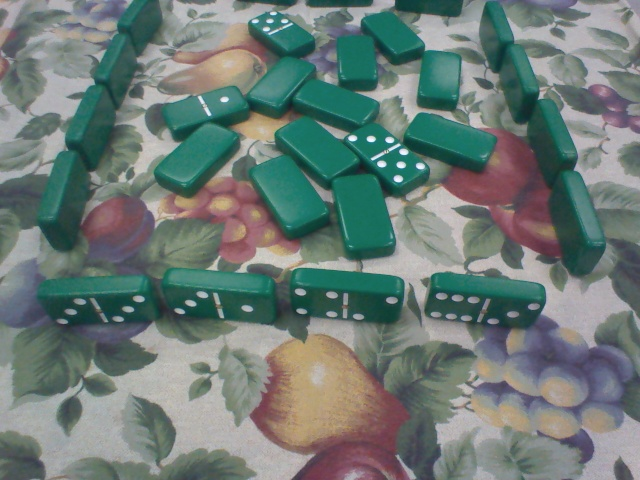A: (150, 118, 241, 197), (401, 108, 500, 176), (247, 152, 328, 235), (269, 111, 357, 185), (327, 171, 401, 256), (288, 69, 379, 131), (242, 46, 319, 119), (412, 44, 466, 117), (359, 6, 427, 62), (327, 32, 384, 88)
B: (338, 119, 429, 192), (152, 91, 261, 131), (238, 6, 318, 59)
C: (31, 148, 97, 254), (66, 83, 120, 171), (84, 31, 143, 105), (112, 1, 166, 47)
D: (536, 167, 613, 274), (521, 93, 586, 181), (490, 45, 543, 128), (472, 1, 513, 80)
E: (417, 268, 558, 335), (284, 262, 406, 331), (161, 261, 281, 331), (36, 266, 158, 330)
F: (394, 1, 469, 19)
